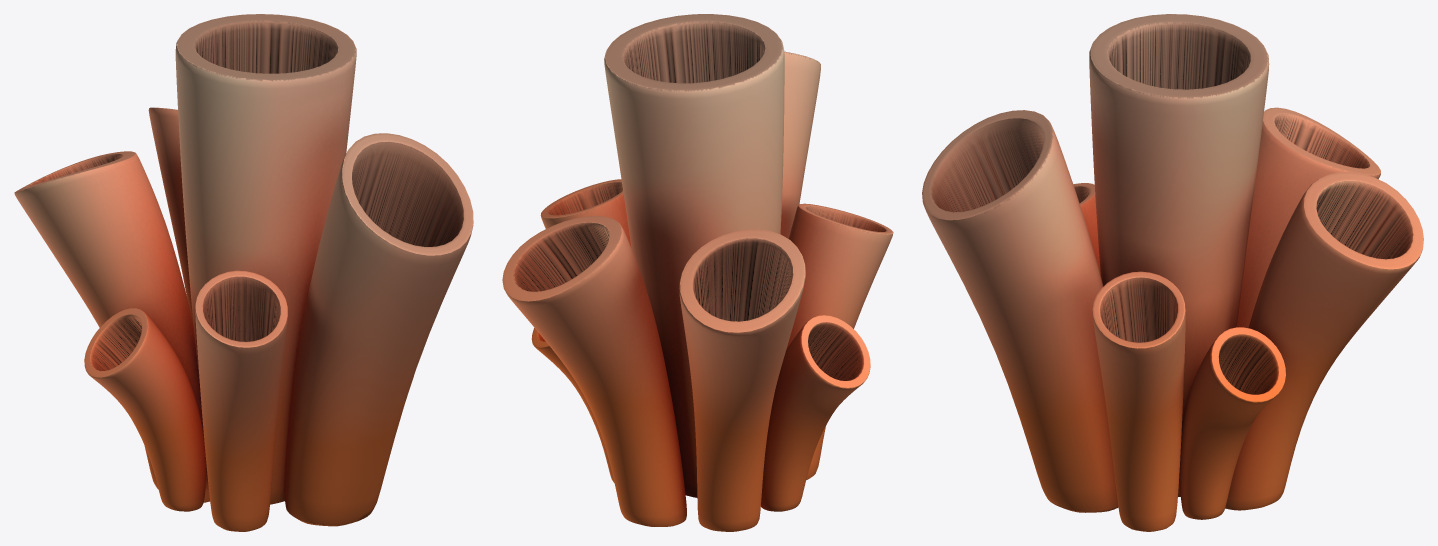
Rendered from coral2.glb.
3 renders of one model, left to right at view 1: azimuth 30°, elevation 25°; view 2: azimuth 150°, elevation 25°; view 3: azimuth 270°, elevation 25°, orthographic.
Parts seen in each view (by area): view 1: Coral02; view 2: Coral02; view 3: Coral02.
Part boxes in pixels (x1,y1,x2,y2): Coral02: (14,14,473,531); Coral02: (502,14,893,531); Coral02: (922,14,1423,531).
Size of what is drawn, in the model's own units: 0.6884 by 0.8679 by 0.8754.
Materials: 1 (1 with a texture image).
